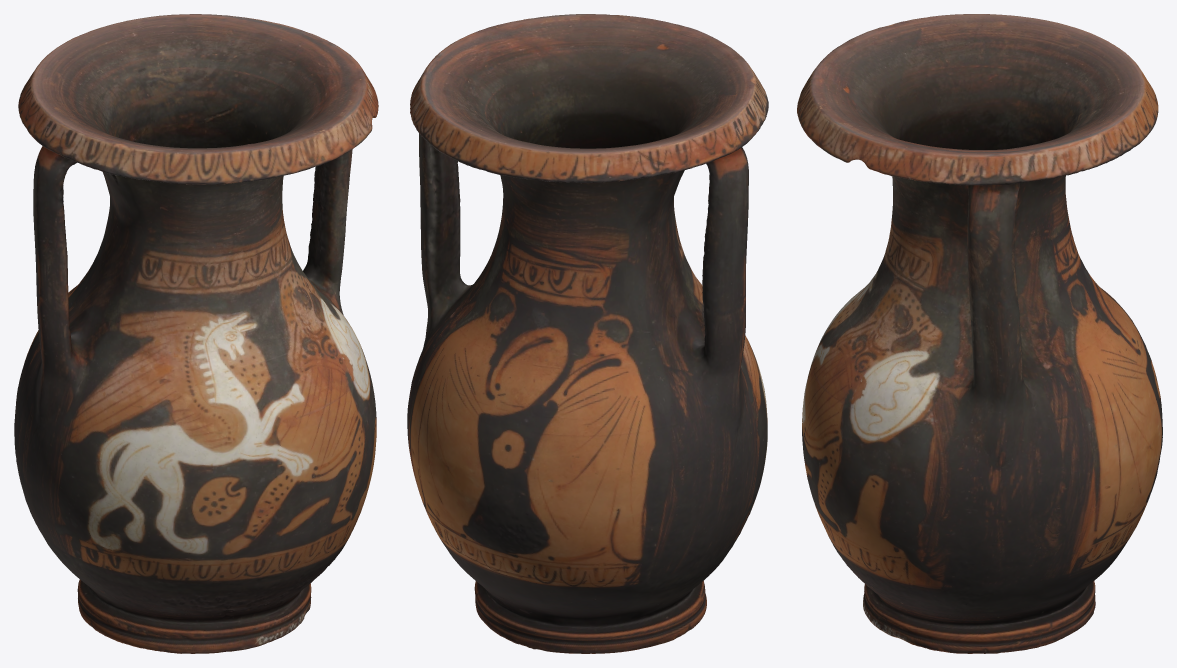
The model's file is rf-krakow-pelike.glb.
The picture shows the model from 3 angles, left to right: view 1: azimuth 30°, elevation 25°; view 2: azimuth 150°, elevation 25°; view 3: azimuth 270°, elevation 25°; orthographic projection.
Visible parts, largest first — view 1: MAK_3591_Pelike_04_kolor_MAK_3591_Pelike__0; view 2: MAK_3591_Pelike_04_kolor_MAK_3591_Pelike__0; view 3: MAK_3591_Pelike_04_kolor_MAK_3591_Pelike__0.
Part boxes in pixels (<box>): MAK_3591_Pelike_04_kolor_MAK_3591_Pelike__0: <box>14,14,378,653</box>; MAK_3591_Pelike_04_kolor_MAK_3591_Pelike__0: <box>407,14,768,653</box>; MAK_3591_Pelike_04_kolor_MAK_3591_Pelike__0: <box>797,14,1162,653</box>.
Size of the model in its own units: 1.34 by 2.1 by 1.33.
1 material, 1 textured.
